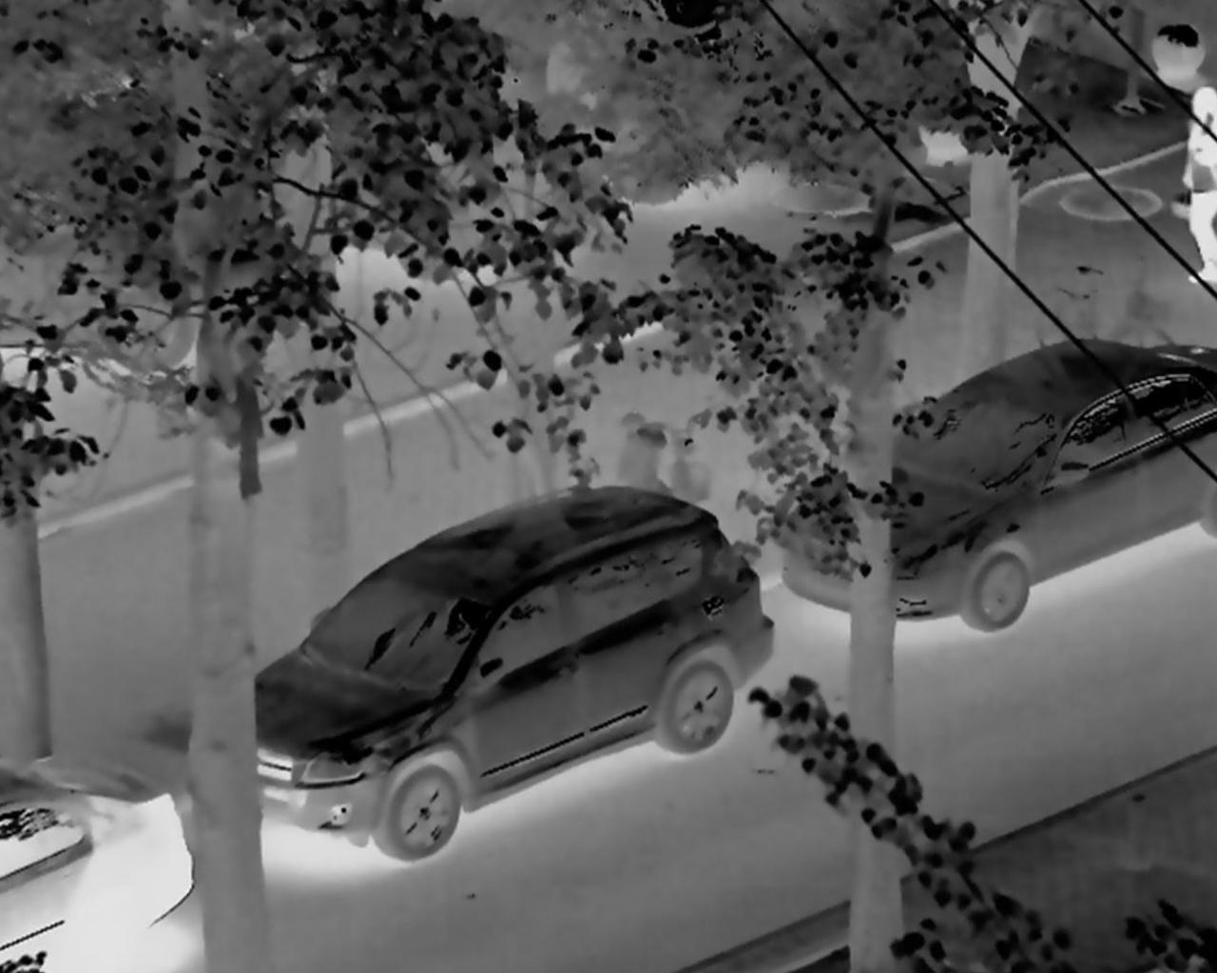person: (1153, 67, 1217, 304)
